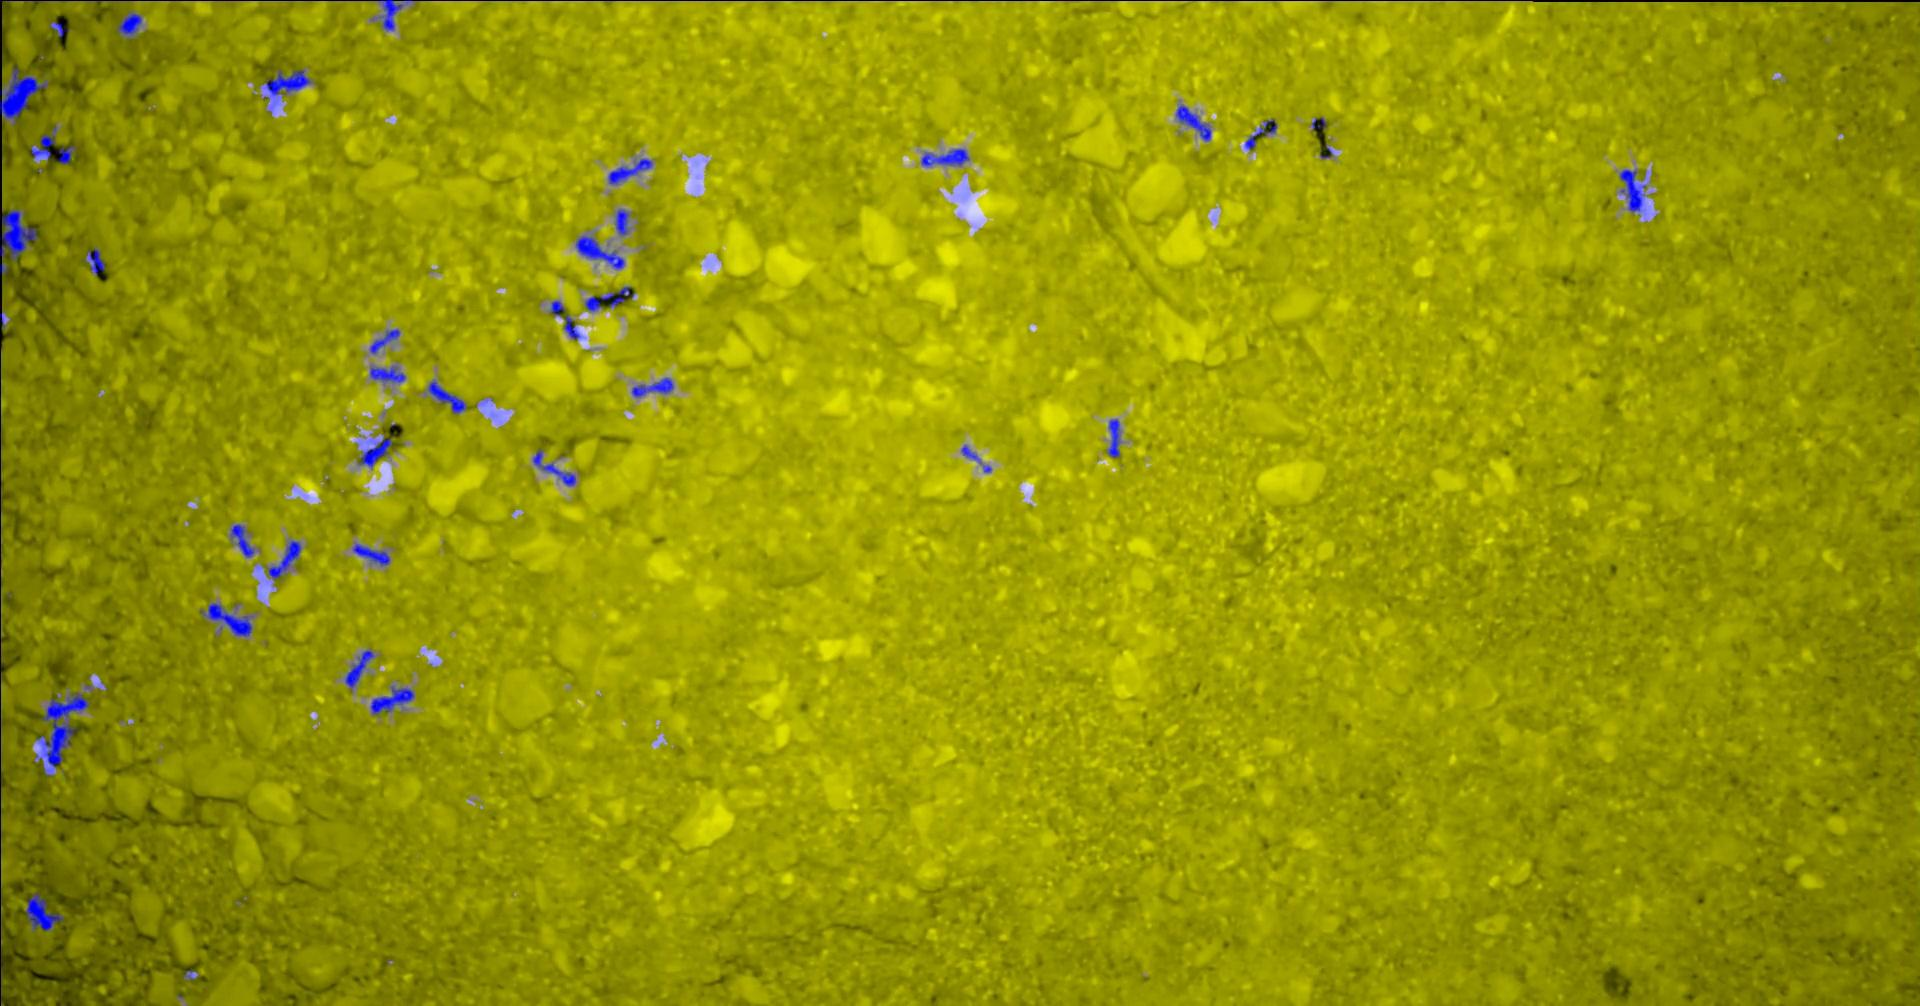ant: (0, 66, 47, 123), (201, 602, 251, 636), (575, 235, 623, 268), (532, 448, 575, 485), (25, 892, 63, 930), (427, 379, 466, 413), (267, 540, 300, 579), (584, 286, 634, 311), (265, 69, 311, 95), (1175, 105, 1210, 140), (370, 686, 413, 714), (607, 158, 651, 184), (344, 649, 373, 687), (1619, 169, 1644, 211), (358, 437, 392, 467), (1244, 118, 1276, 149), (352, 542, 389, 565), (30, 124, 55, 159), (631, 377, 673, 396), (230, 525, 254, 558), (921, 149, 968, 165), (378, 0, 403, 30), (370, 329, 399, 353), (370, 366, 405, 382), (86, 246, 105, 276), (117, 11, 141, 34), (1107, 418, 1119, 457), (564, 315, 579, 339), (615, 210, 629, 235), (57, 145, 74, 163), (961, 445, 979, 461), (50, 22, 69, 37), (550, 300, 564, 315), (1310, 117, 1324, 130)
